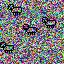sheep: (8, 3, 22, 16), (41, 16, 56, 28), (23, 24, 37, 35), (0, 42, 14, 53)
